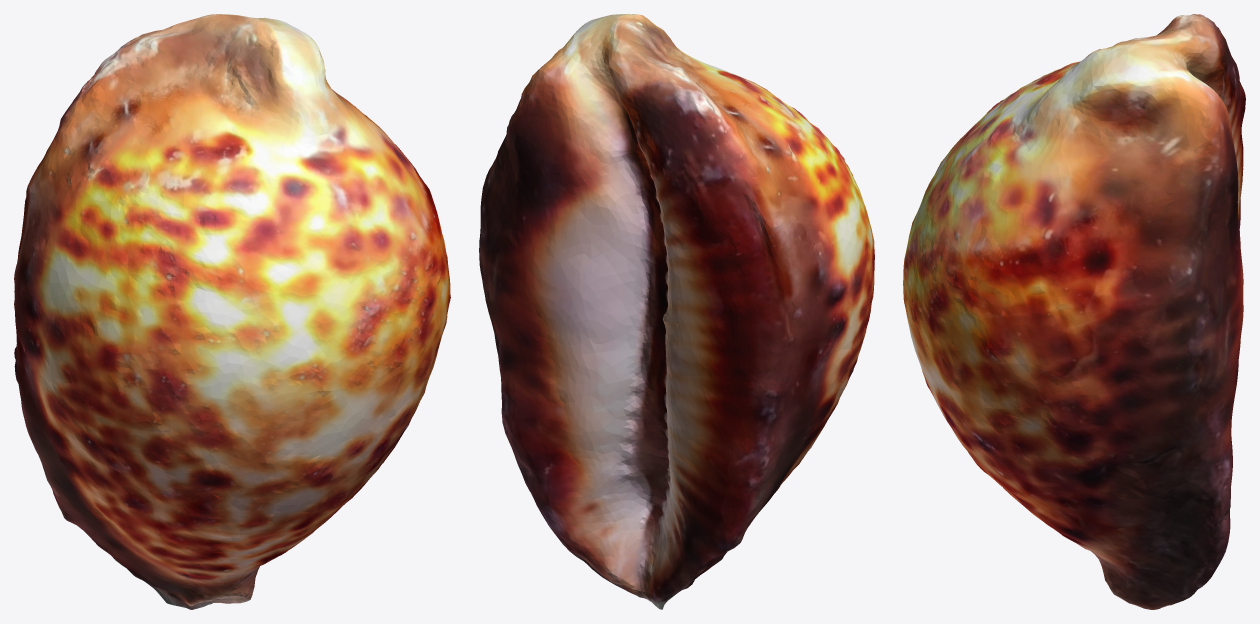
File: Cowrie Shell.glb
The picture shows the model from 3 angles, left to right: view 1: azimuth 30°, elevation 25°; view 2: azimuth 150°, elevation 25°; view 3: azimuth 270°, elevation 25°; orthographic projection. The views are drawn at different scales.
Bounding box in the file's own units: 0.3201 × 0.4823 × 0.258.
1 material, 1 textured.
